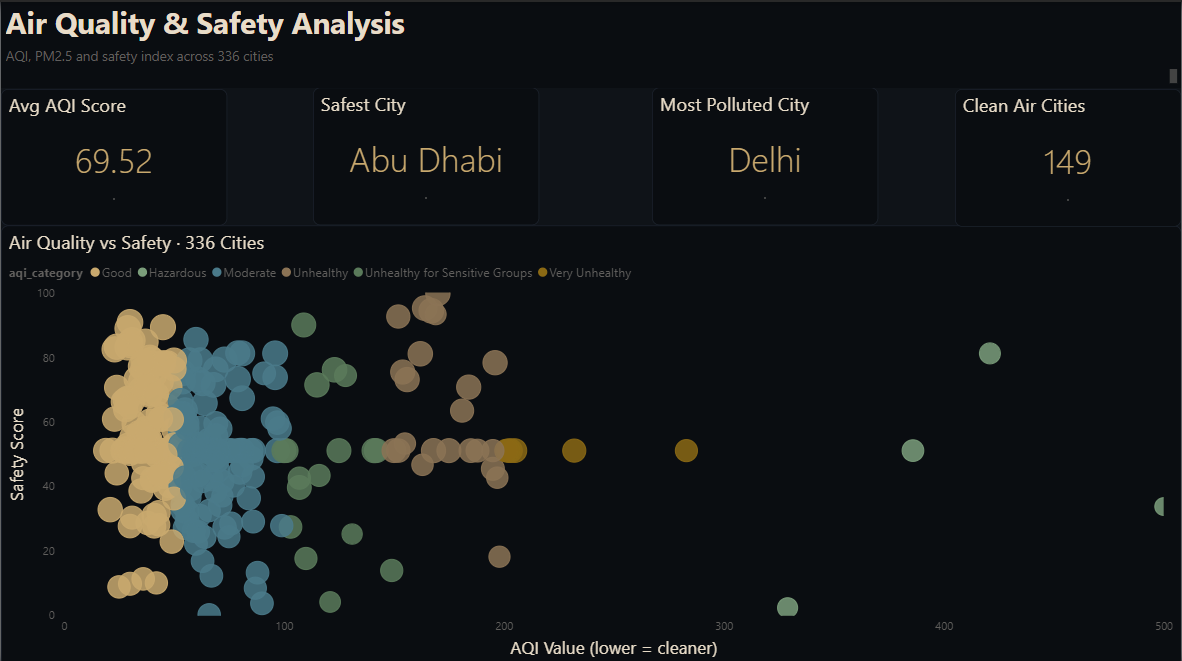

This screenshot's page, from the dashboard's own definition file:
{"tool":"powerbi","page":{"name":"Air_Quality_And_Safety","canvas":[1280,720],"ordinal":1},"visuals":[{"type":"card","title":"Avg AQI Score","fields":{"Values":["Avg(daedalus_scored (2).aqi_value)"]},"box":[0,94.3,245.6,148],"z":0},{"type":"scatterChart","title":"Air Quality vs Safety · 336 Cities","fields":{"X":["Avg(daedalus_scored (2).aqi_value)"],"Y":["Avg(daedalus_scored (2).safety_score)"],"Category":["daedalus_scored (2).city"],"Size":["Avg(daedalus_scored (2).livability_score_absolute)"],"Series":["daedalus_scored (2).aqi_category"]},"box":[0,242.4,1280.1,478.2],"z":1000},{"type":"card","title":"Safest City","fields":{"Values":["daedalus_scored (2).Safest City_1"]},"box":[338.3,92.7,245.6,149.6],"z":2000},{"type":"card","title":"Most Polluted City","fields":{"Values":["daedalus_scored (2).Most Polluted"]},"box":[705.9,92.7,245.6,149.6],"z":3000},{"type":"card","title":"Clean Air Cities","fields":{"Values":["daedalus_scored (2).Clean Air Cities"]},"box":[1034.5,94.3,245.6,149.6],"z":4000},{"type":"textbox","title":"Air Quality & Safety Analysis","box":[0,0,1280.1,92.7],"z":5000}]}

Visuals, with their boxes in screenshot pixels (x1, y1, x2, y2), scaled from the page's 1280x720 canvas onto the 1182x661 screenshot:
"Avg AQI Score" card: [0, 87, 227, 222]
"Air Quality vs Safety · 336 Cities" scatterChart: [0, 223, 1181, 660]
"Safest City" card: [312, 85, 539, 222]
"Most Polluted City" card: [652, 85, 879, 222]
"Clean Air Cities" card: [955, 87, 1181, 224]
"Air Quality & Safety Analysis" textbox: [0, 0, 1181, 85]
